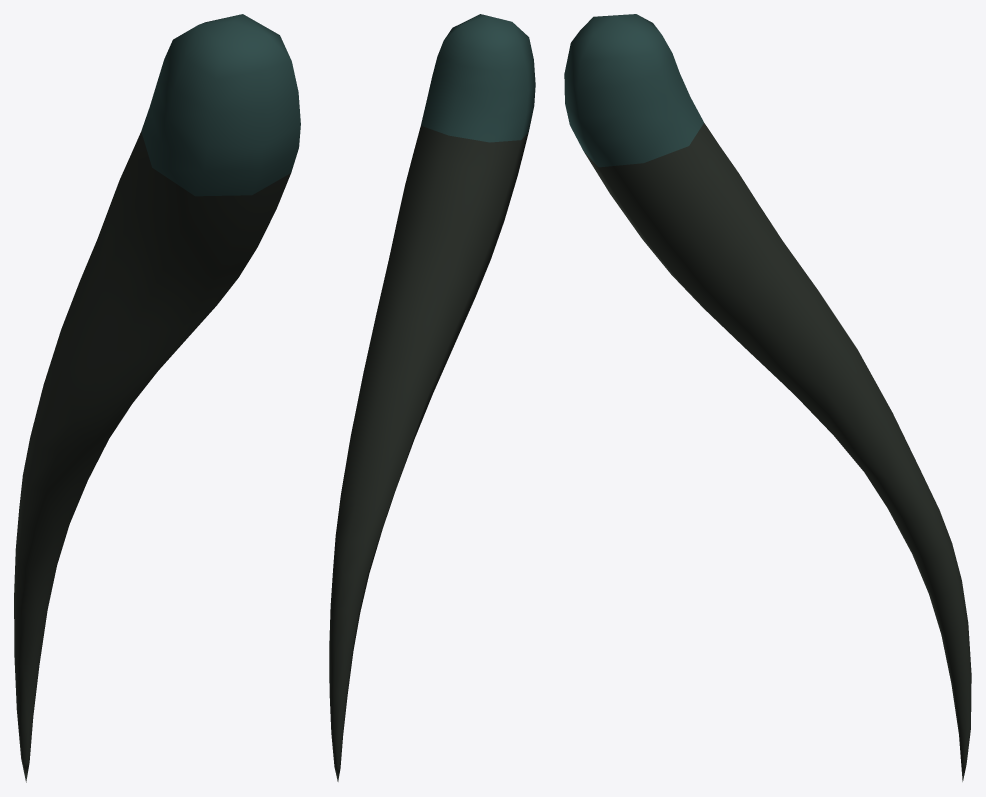
The model's file is plants-leafy-plants-horn-sprout_v1.glb.
The picture shows the model from 3 angles, left to right: view 1: azimuth 30°, elevation 25°; view 2: azimuth 150°, elevation 25°; view 3: azimuth 270°, elevation 25°; orthographic projection. The views are drawn at different scales.
Parts seen in each view (by area): view 1: Horn Sprout_v1; view 2: Horn Sprout_v1; view 3: Horn Sprout_v1.
Boxes of the visible parts, <box> form: Horn Sprout_v1: <box>14,14,300,782</box>; Horn Sprout_v1: <box>329,14,535,781</box>; Horn Sprout_v1: <box>564,14,971,781</box>.
Bounding box in the file's own units: 0.0295 × 0.2 × 0.0963.
